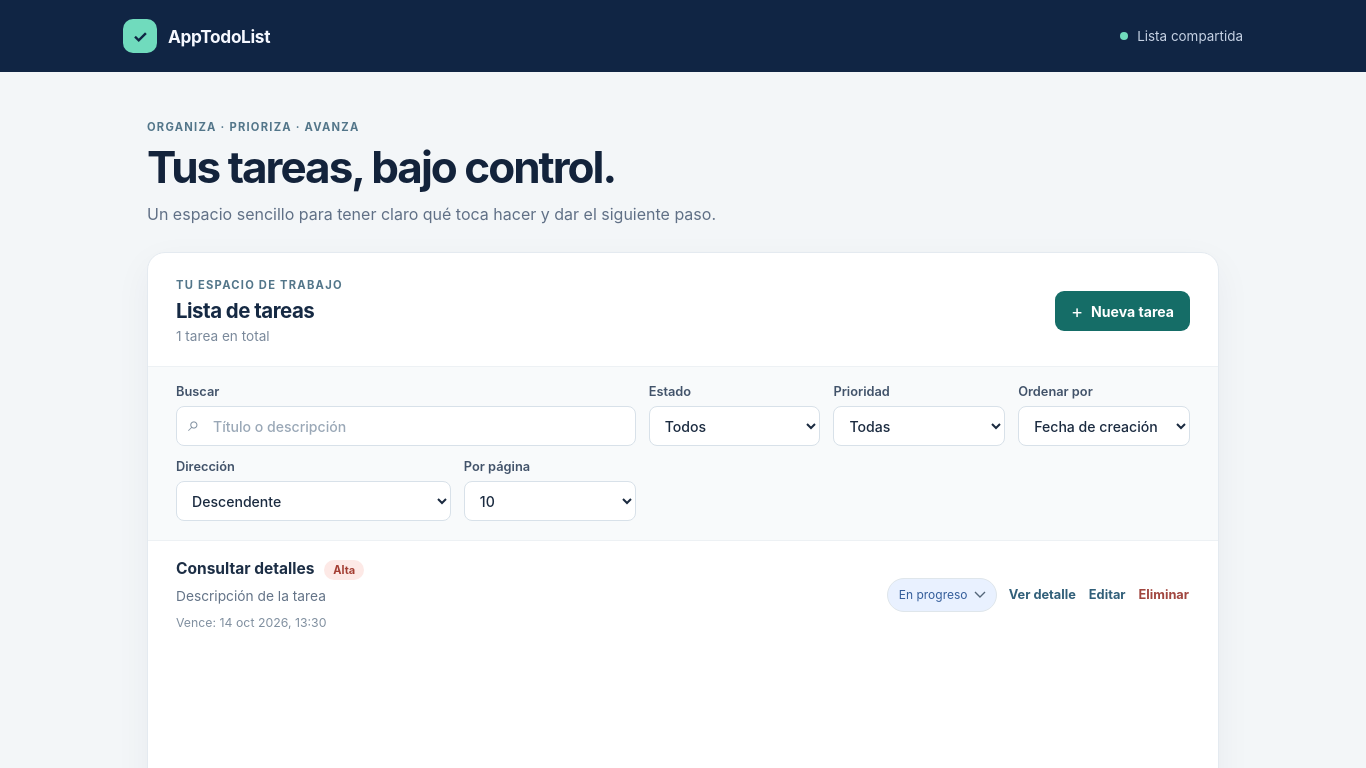
Test: AppTodoList › consulta y muestra los datos completos de una tarea
Click the button with aria-label "Ver detalle de Consultar detalles" at (1042, 594), box x1=1008 y1=581 x2=1077 y2=608
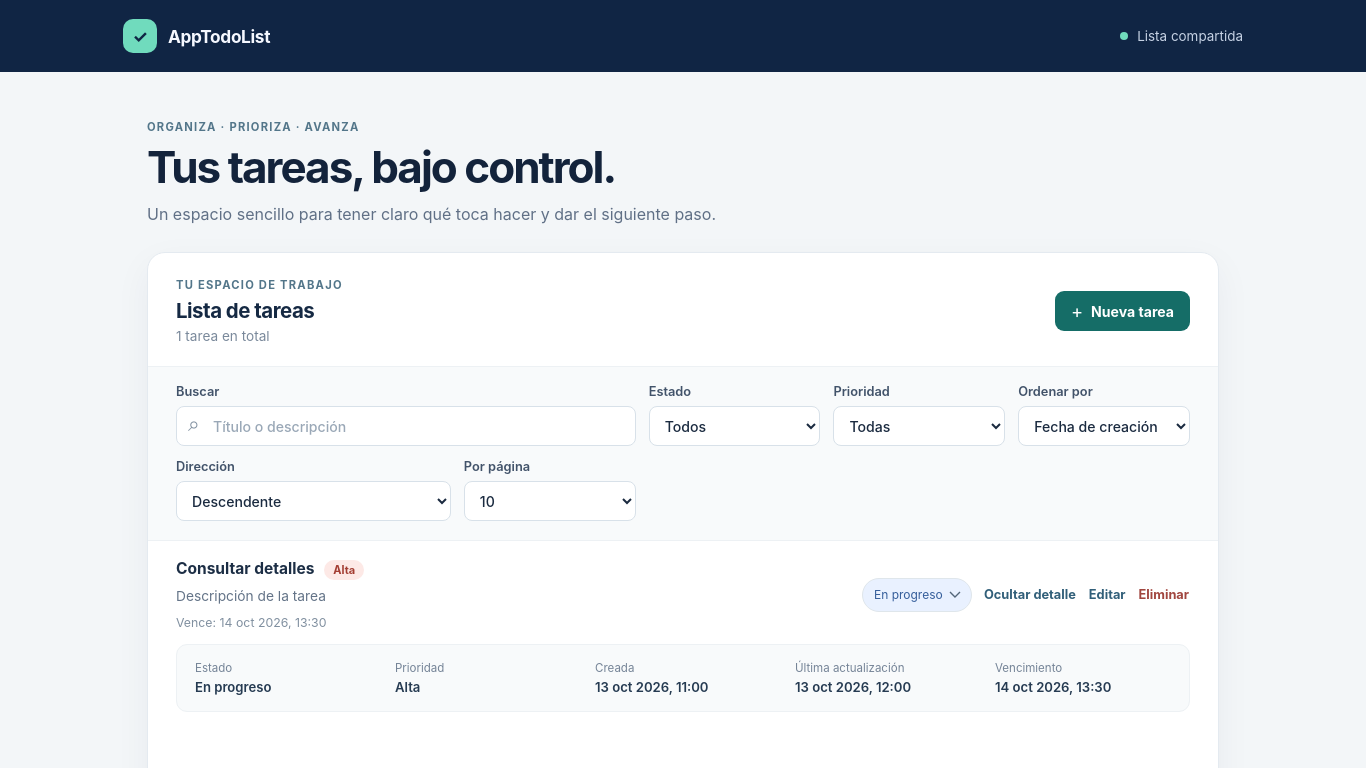
Expected: the text "Última actualización" is shown, x1=795 y1=661 x2=904 y2=675
Expected: the text "En progreso" is shown, x1=195 y1=679 x2=271 y2=695
